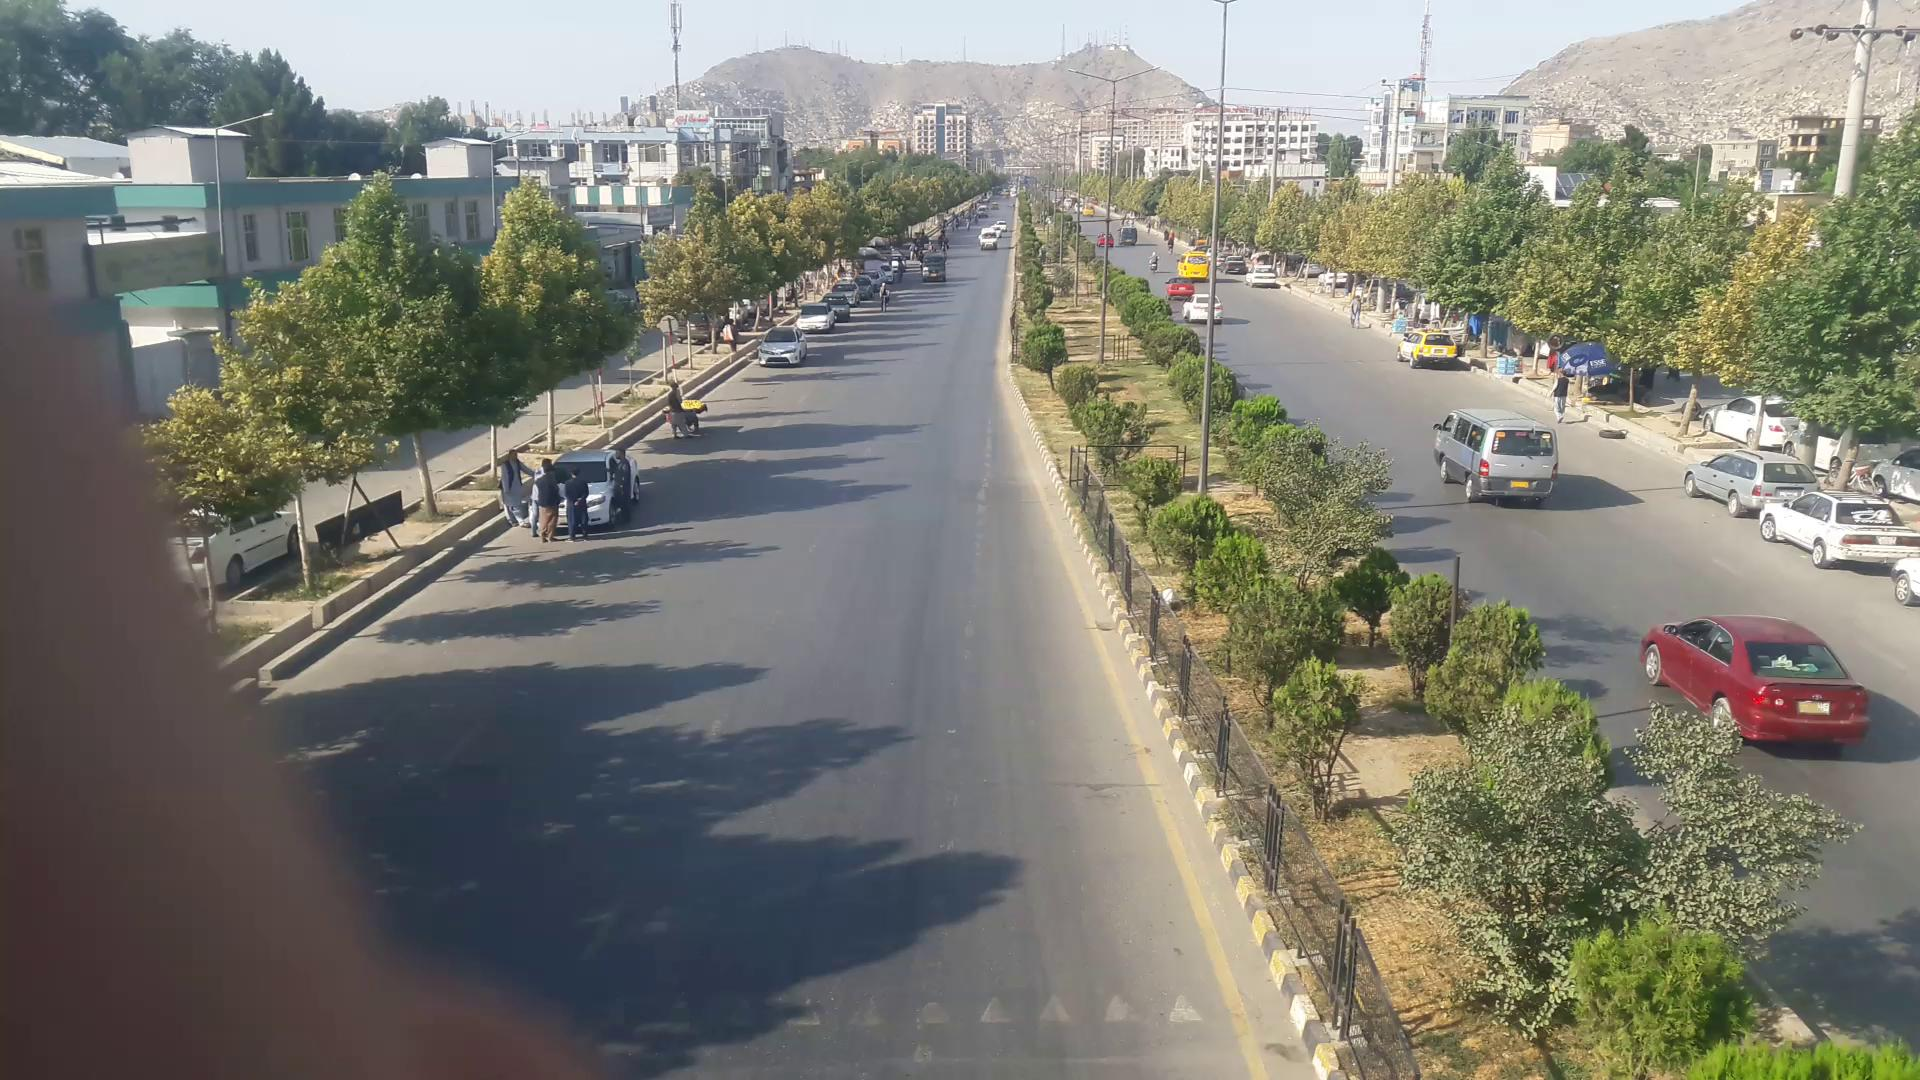bus: (1431, 409, 1565, 502)
car: (1643, 620, 1860, 747), (1762, 489, 1917, 569), (1679, 453, 1832, 515), (766, 334, 809, 366), (794, 310, 841, 333)
